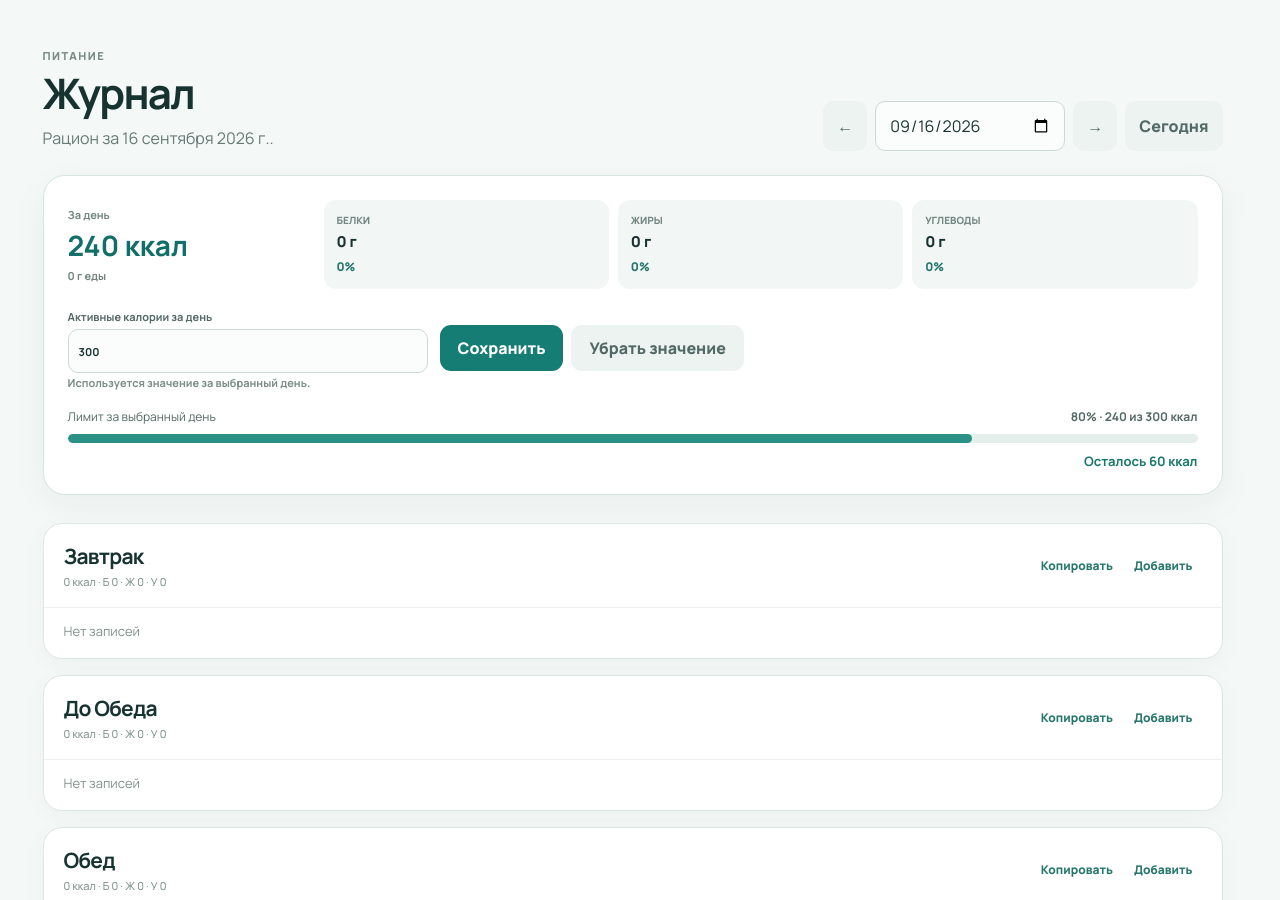
Test: активные калории в журнале › после подтверждённого удаления возвращается к дефолтному лимиту
Click the button "Убрать значение" at (658, 348), box [572,325,744,371]
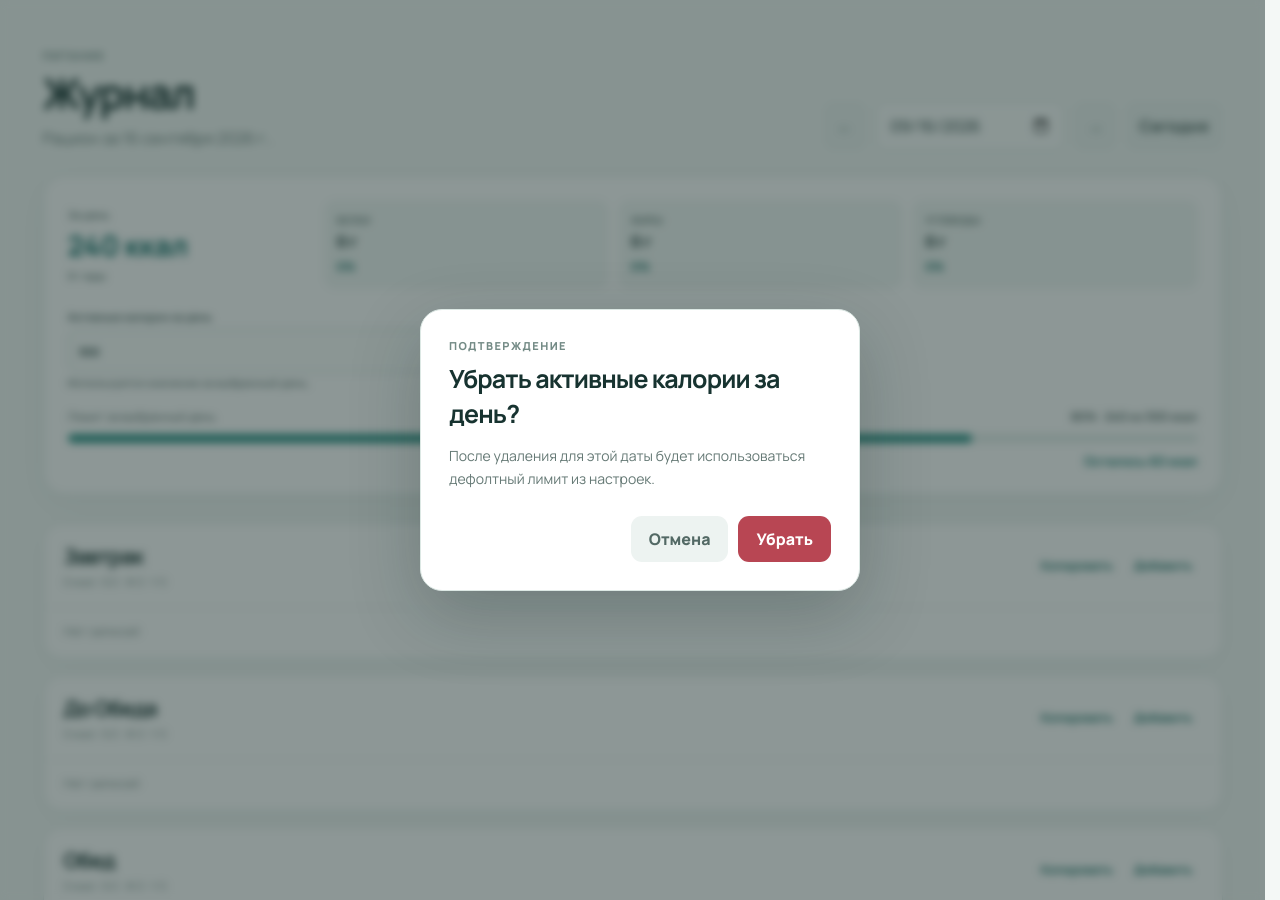
Click the button "Убрать" at (785, 539), box [738,516,831,562]
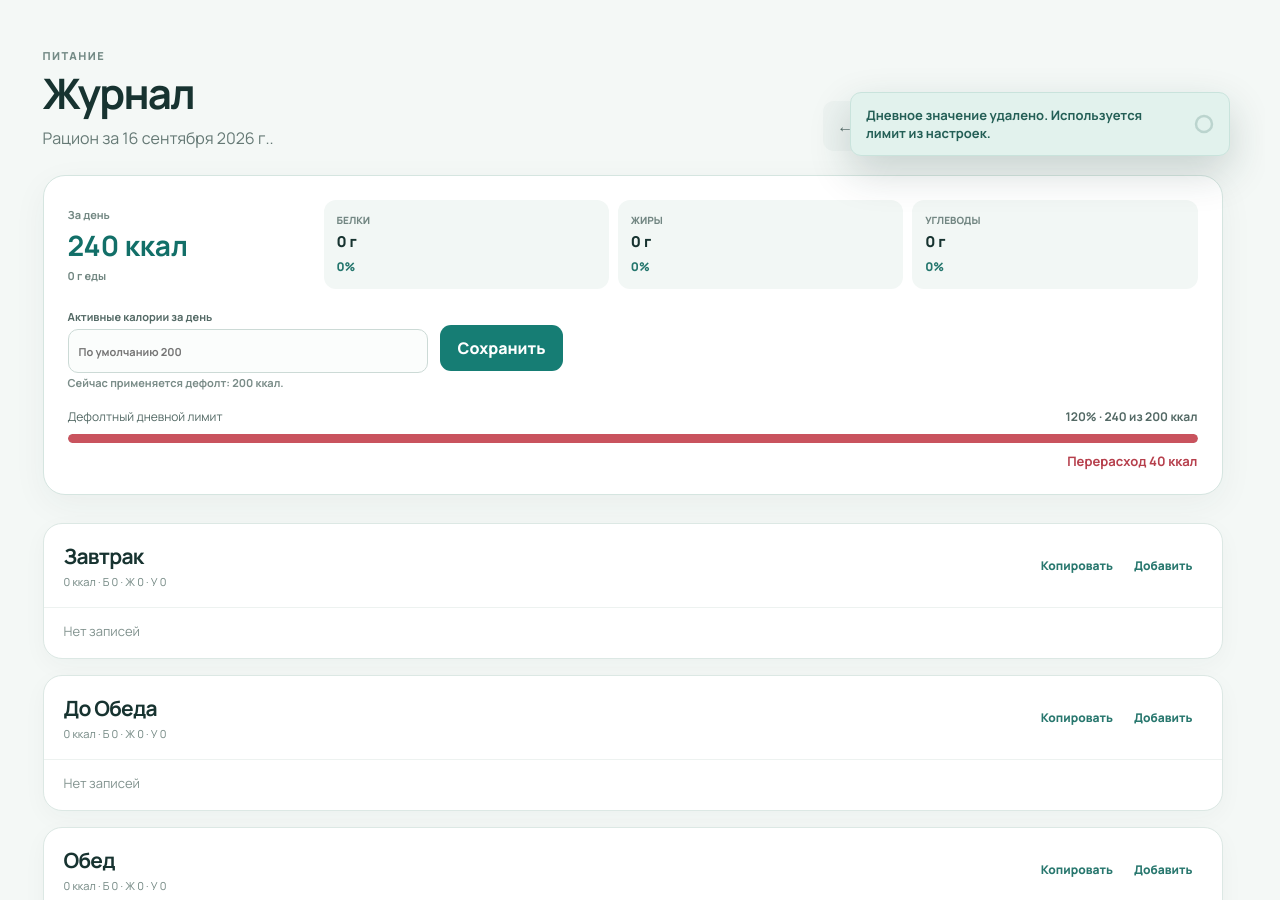
Expected: the text "120% · 240 из 200 ккал" is shown, [1066,408,1198,425]
Expected: the text "Дефолтный дневной лимит" is shown, [68,408,222,425]
